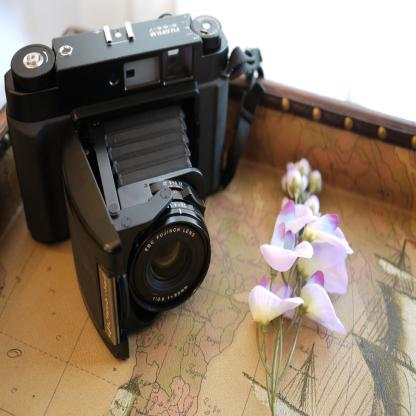Camera: (6, 13, 232, 360)
